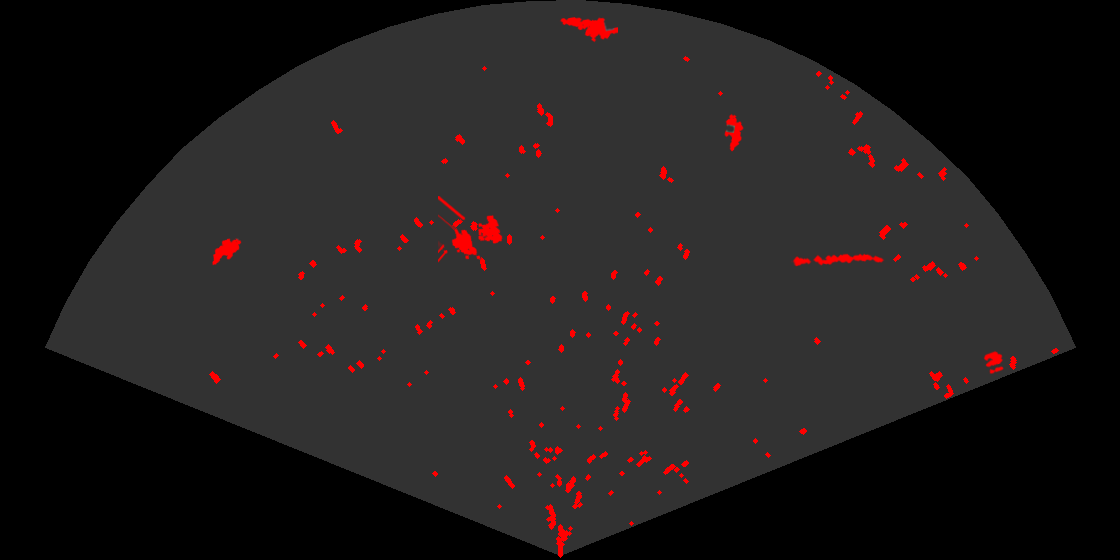AUV: (210, 237, 243, 267), (723, 112, 745, 153)
ball: (982, 349, 1005, 376)
cage: (438, 196, 504, 264)
chain: (791, 252, 885, 268)
frogman: (559, 16, 618, 44)
